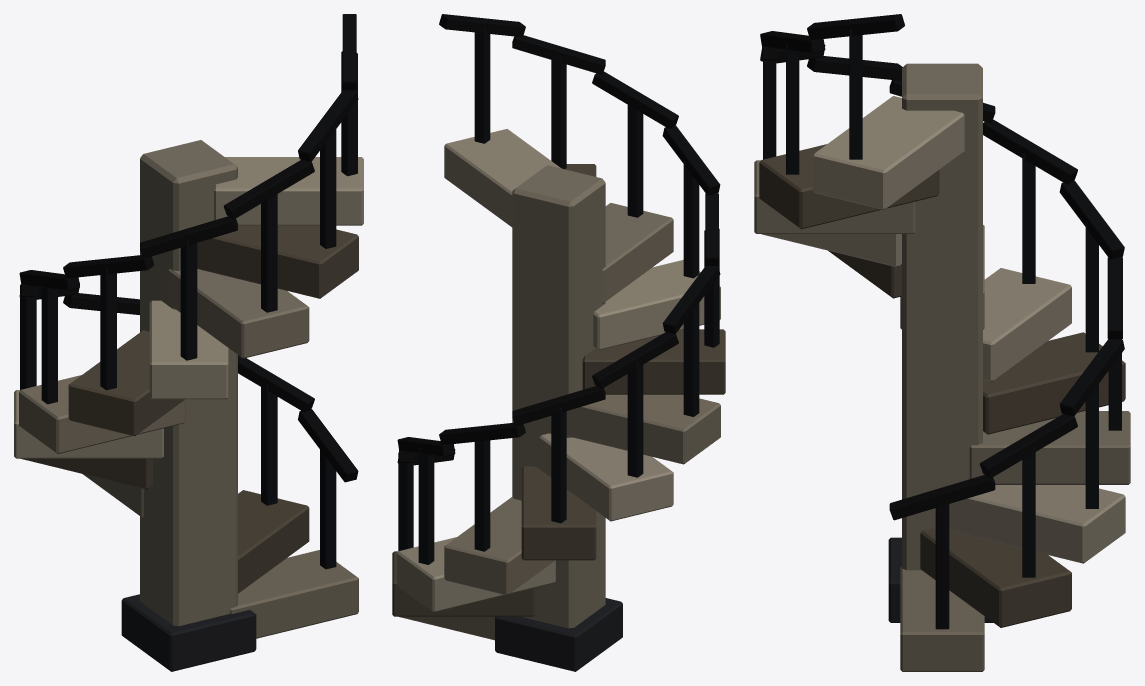
The model's file is mod_stairs_spiral_stone.glb.
The picture shows the model from 3 angles, left to right: view 1: azimuth 30°, elevation 25°; view 2: azimuth 150°, elevation 25°; view 3: azimuth 270°, elevation 25°; orthographic projection. The views are drawn at different scales.
Parts seen in each view (by area): view 1: Mod_Stairs_Spiral_Stone; view 2: Mod_Stairs_Spiral_Stone; view 3: Mod_Stairs_Spiral_Stone.
Part boxes in pixels (x1=…): Mod_Stairs_Spiral_Stone: x1=14, y1=14, x2=363, y2=671; Mod_Stairs_Spiral_Stone: x1=392, y1=14, x2=725, y2=671; Mod_Stairs_Spiral_Stone: x1=754, y1=14, x2=1130, y2=671.
Bounding box in the file's own units: 1.96 × 3.78 × 1.96.
